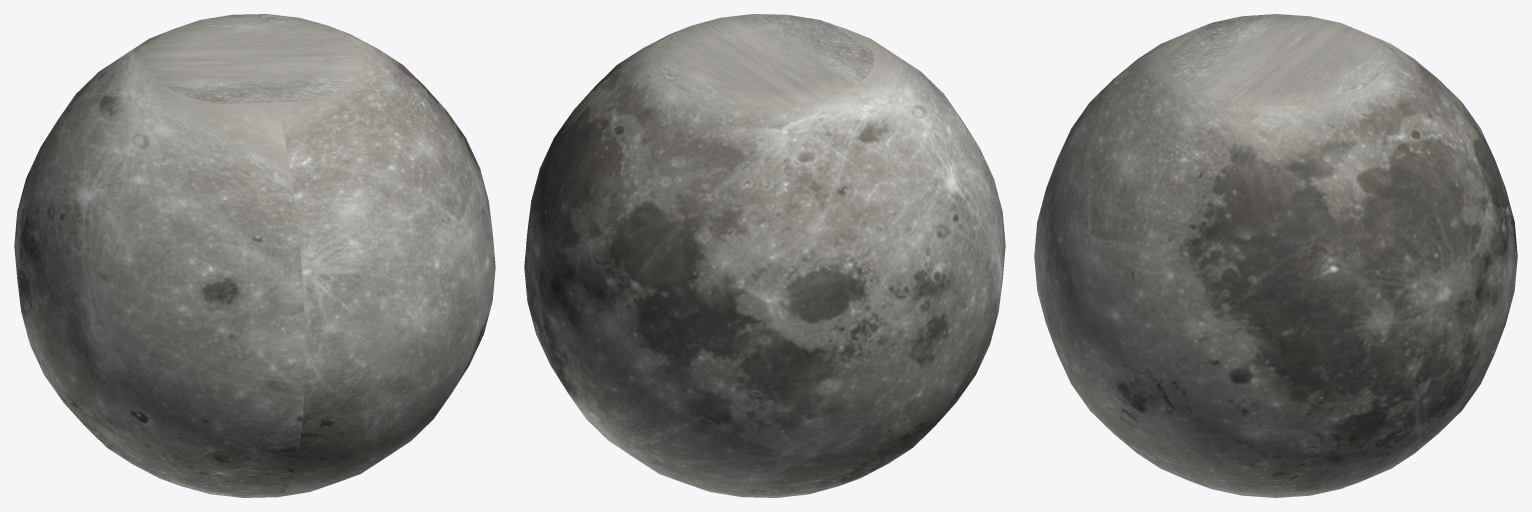
File: moon.fbx
3 views of the same model, side by side, from view 1: azimuth 30°, elevation 25°; view 2: azimuth 150°, elevation 25°; view 3: azimuth 270°, elevation 25° (orthographic).
Parts seen in each view (by area): view 1: pSphere1; view 2: pSphere1; view 3: pSphere1.
Boxes of the visible parts, <box> form: pSphere1: <box>14,14,495,497</box>; pSphere1: <box>524,14,1005,497</box>; pSphere1: <box>1034,14,1517,497</box>.
Bounding box in the file's own units: 13.2 × 12.51 × 13.2.
